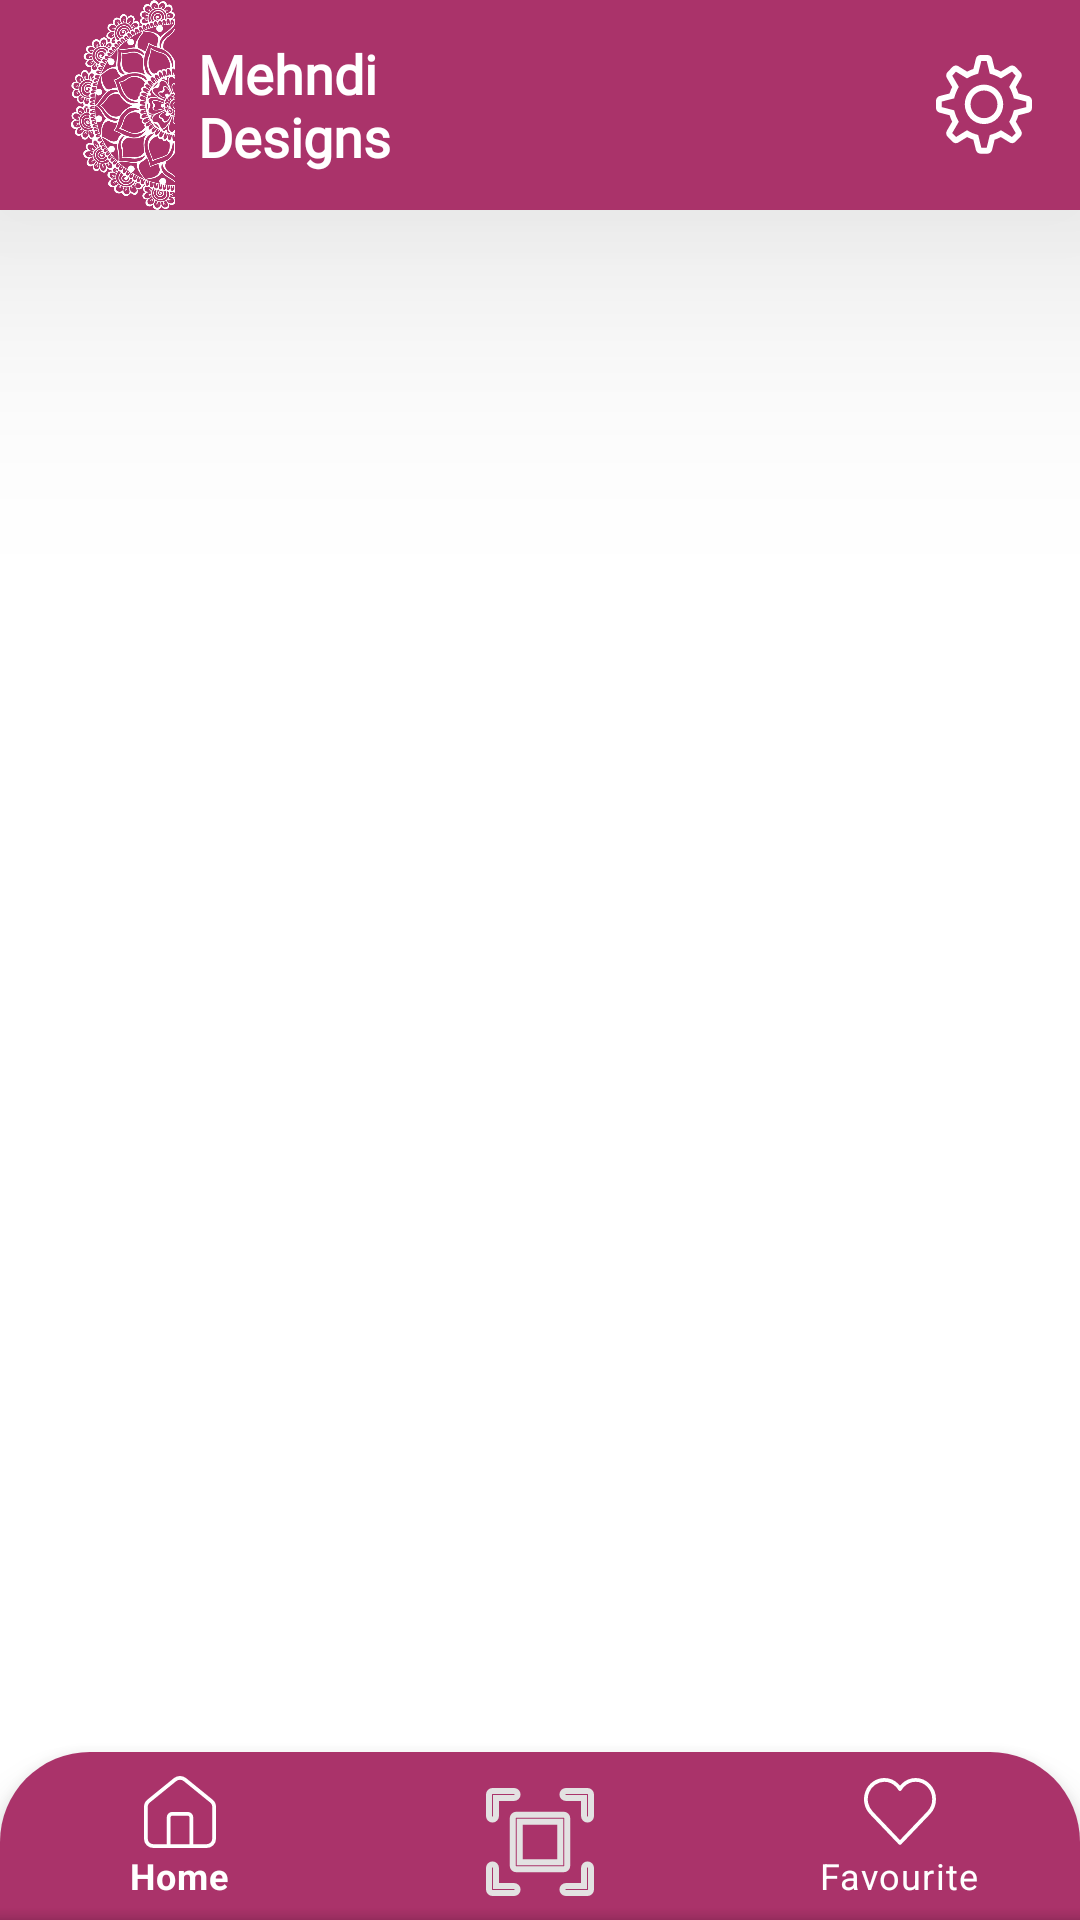

Point at icon controls on the screen. Image size 1080 × 1920, points as (x,y).
scan: (540,1842)
setting: (984,104)
